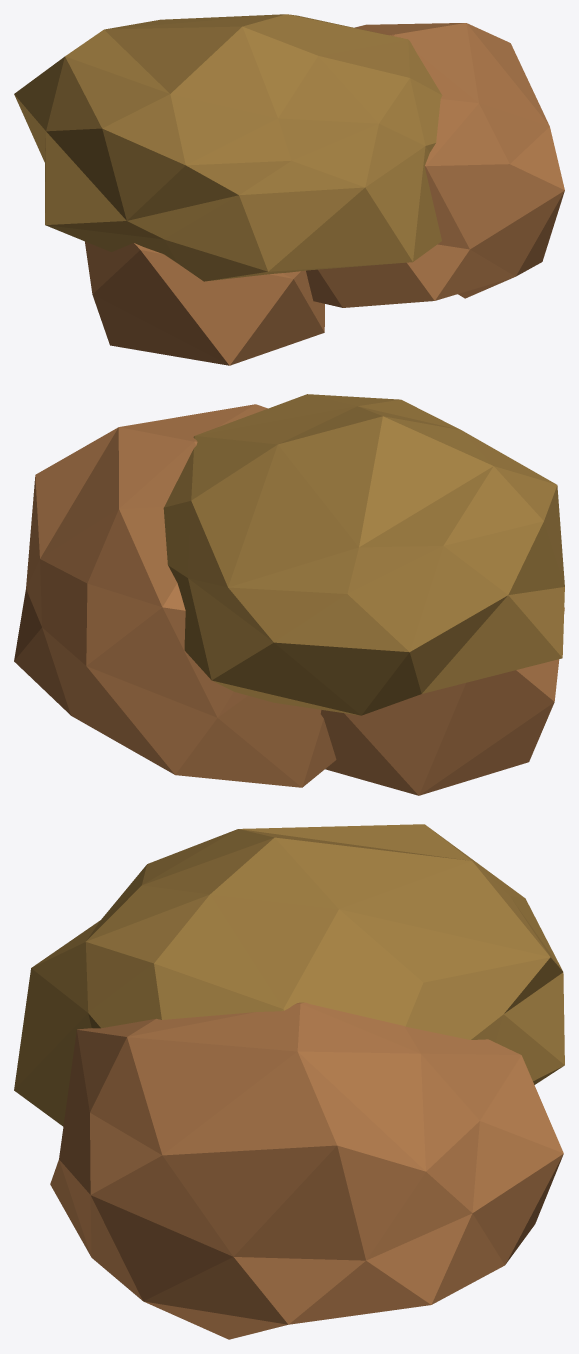
File: enchantedforest_bush_4.fbx
3 renders of one model, top to bottom at view 1: azimuth 30°, elevation 25°; view 2: azimuth 150°, elevation 25°; view 3: azimuth 270°, elevation 25°, orthographic. The views are drawn at different scales.
Parts seen in each view (by area): view 1: Icosphere.008; view 2: Icosphere.008; view 3: Icosphere.008.
Part boxes in pixels (bbox=[...]): Icosphere.008: bbox=[14, 14, 564, 365]; Icosphere.008: bbox=[14, 394, 564, 795]; Icosphere.008: bbox=[14, 824, 564, 1339].
Size of the model in its own units: 2.66 by 1.61 by 2.12.
